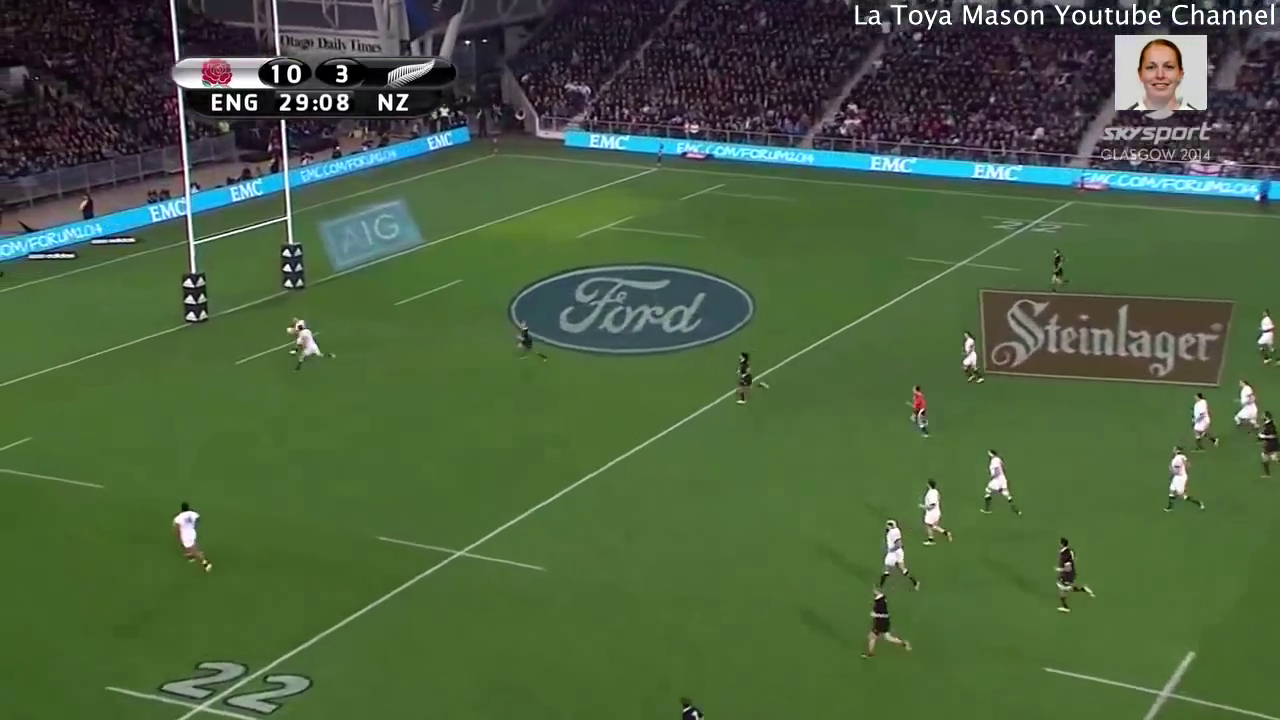10_metre: (1039, 641, 1280, 720)
player: (165, 493, 223, 579), (871, 518, 929, 599), (867, 584, 918, 668), (1049, 532, 1097, 618), (1161, 443, 1209, 520), (977, 443, 1024, 517), (913, 475, 954, 549), (734, 346, 778, 409), (1186, 388, 1221, 456), (902, 380, 941, 440), (291, 322, 336, 373), (1250, 304, 1280, 370), (1227, 377, 1258, 440), (510, 316, 547, 368), (1256, 411, 1280, 478), (1046, 240, 1073, 294), (960, 326, 983, 386), (285, 312, 299, 333)
post: (164, 121, 309, 324)
